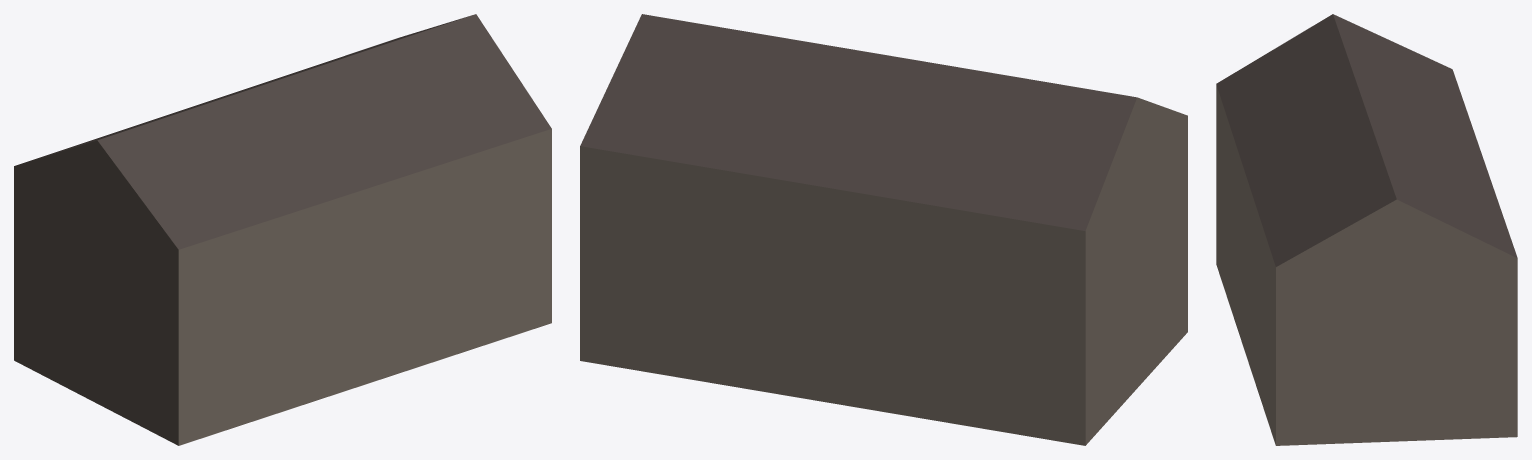
3 renders of one model, left to right at view 1: azimuth 30°, elevation 25°; view 2: azimuth 150°, elevation 25°; view 3: azimuth 270°, elevation 25°, orthographic. The views are drawn at different scales.
Parts seen in each view (by area): view 1: HP-w1512965850; view 2: HP-w1512965850; view 3: HP-w1512965850.
Boxes of the visible parts, x1,y1,x2,y2 form: HP-w1512965850: (14, 14, 551, 445); HP-w1512965850: (580, 14, 1187, 445); HP-w1512965850: (1216, 14, 1517, 445).
Size of the model in its own units: 14.26 by 8.13 by 9.18.
